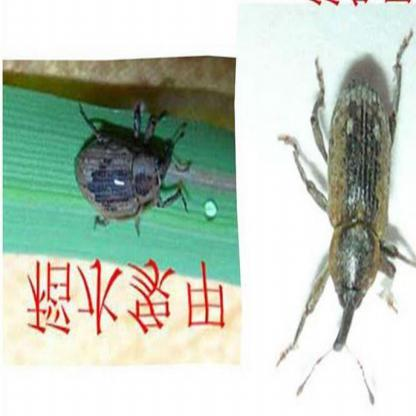rice-bug: (309, 35, 408, 352), (74, 102, 178, 229)
